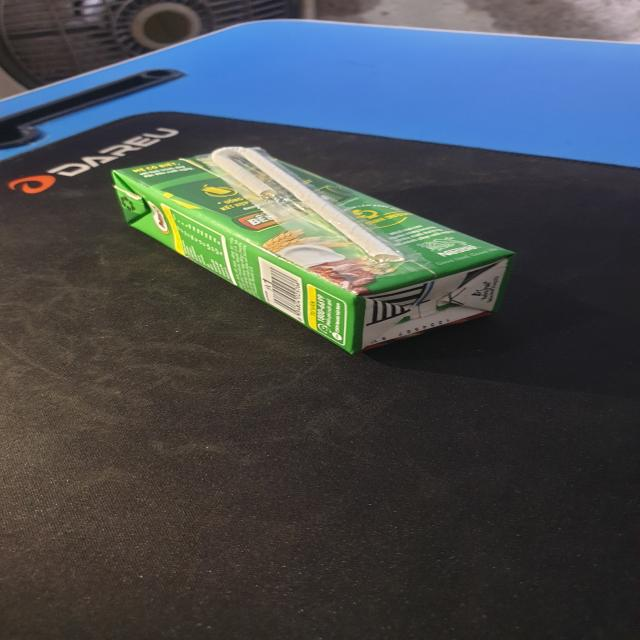Milo: (109, 145, 516, 359)
